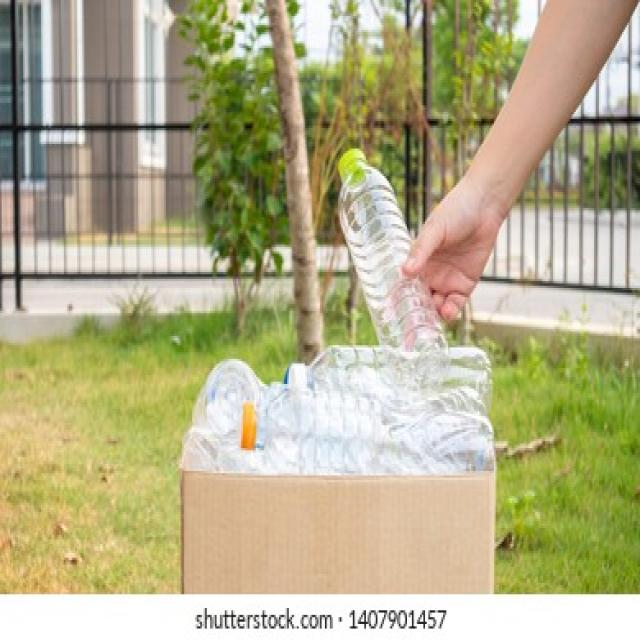plastic: (330, 155, 450, 359), (238, 393, 492, 473)
